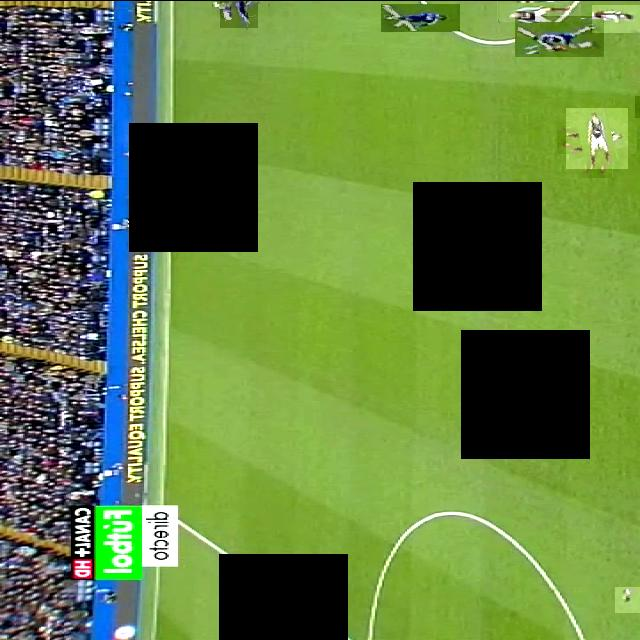soccer-player: (566, 107, 628, 168), (515, 15, 604, 56), (381, 3, 460, 31), (497, 0, 581, 21), (592, 4, 640, 32), (220, 0, 258, 27), (615, 586, 640, 612), (635, 95, 640, 117), (632, 69, 640, 81)
